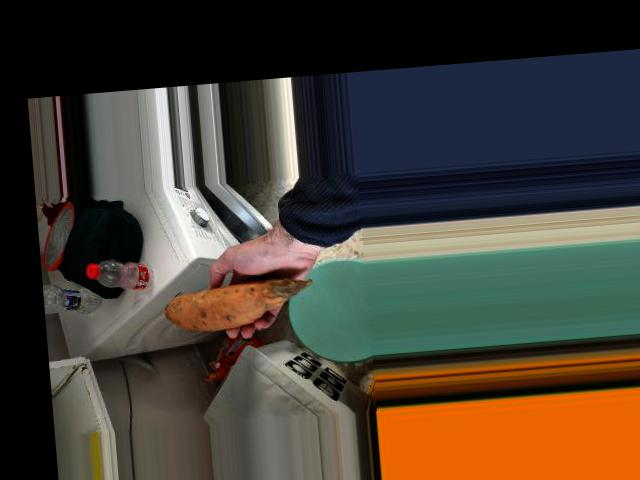sweet_potato: (169, 284, 330, 340)
